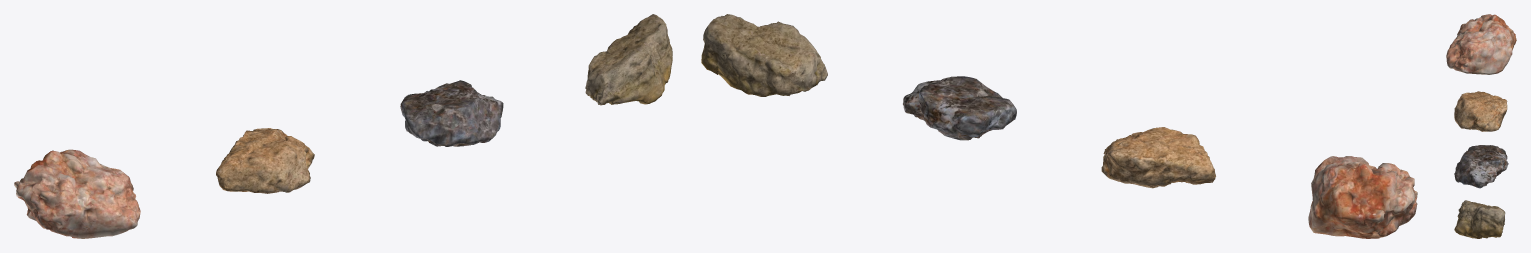
Rendered from desert_rocks.glb.
3 renders of one model, left to right at view 1: azimuth 30°, elevation 25°; view 2: azimuth 150°, elevation 25°; view 3: azimuth 270°, elevation 25°, orthographic. The views are drawn at different scales.
Parts seen in each view (by area): view 1: namaqualand_rocks_02_a; view 2: namaqualand_rocks_02_a; view 3: namaqualand_rocks_02_a.
Boxes of the visible parts, bbox=[...] form: namaqualand_rocks_02_a: bbox=[14, 14, 672, 238]; namaqualand_rocks_02_a: bbox=[701, 14, 1417, 238]; namaqualand_rocks_02_a: bbox=[1446, 14, 1516, 238].
Size of the model in its own units: 1.45 by 0.1522 by 0.2158.
Materials: 1 (1 with a texture image).
